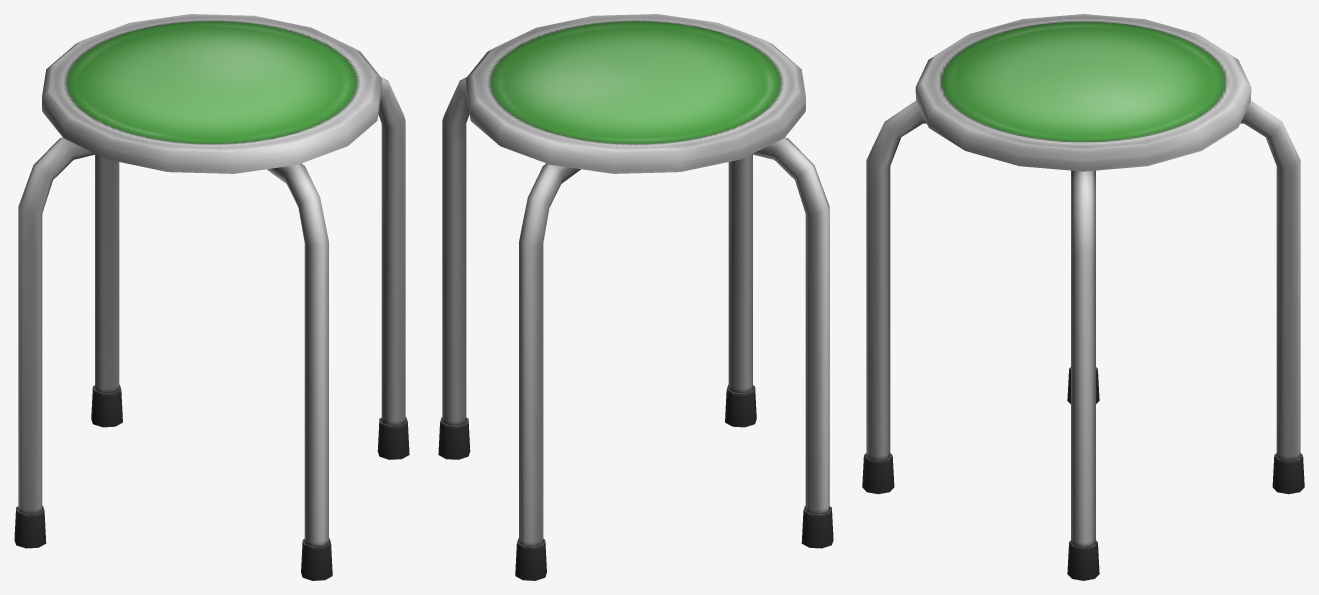
The model's file is KR_Chair_01_01.fbx.
3 renders of one model, left to right at view 1: azimuth 30°, elevation 25°; view 2: azimuth 150°, elevation 25°; view 3: azimuth 270°, elevation 25°, orthographic. The views are drawn at different scales.
Visible parts, largest first — view 1: kr_chair_01_01; view 2: kr_chair_01_01; view 3: kr_chair_01_01.
Boxes of the visible parts, left/top/right/bottom form: kr_chair_01_01: left=14, top=14, right=409, bottom=580; kr_chair_01_01: left=438, top=14, right=833, bottom=580; kr_chair_01_01: left=862, top=14, right=1304, bottom=580.
Size of the model in its own units: 43.5 by 44 by 43.5.
